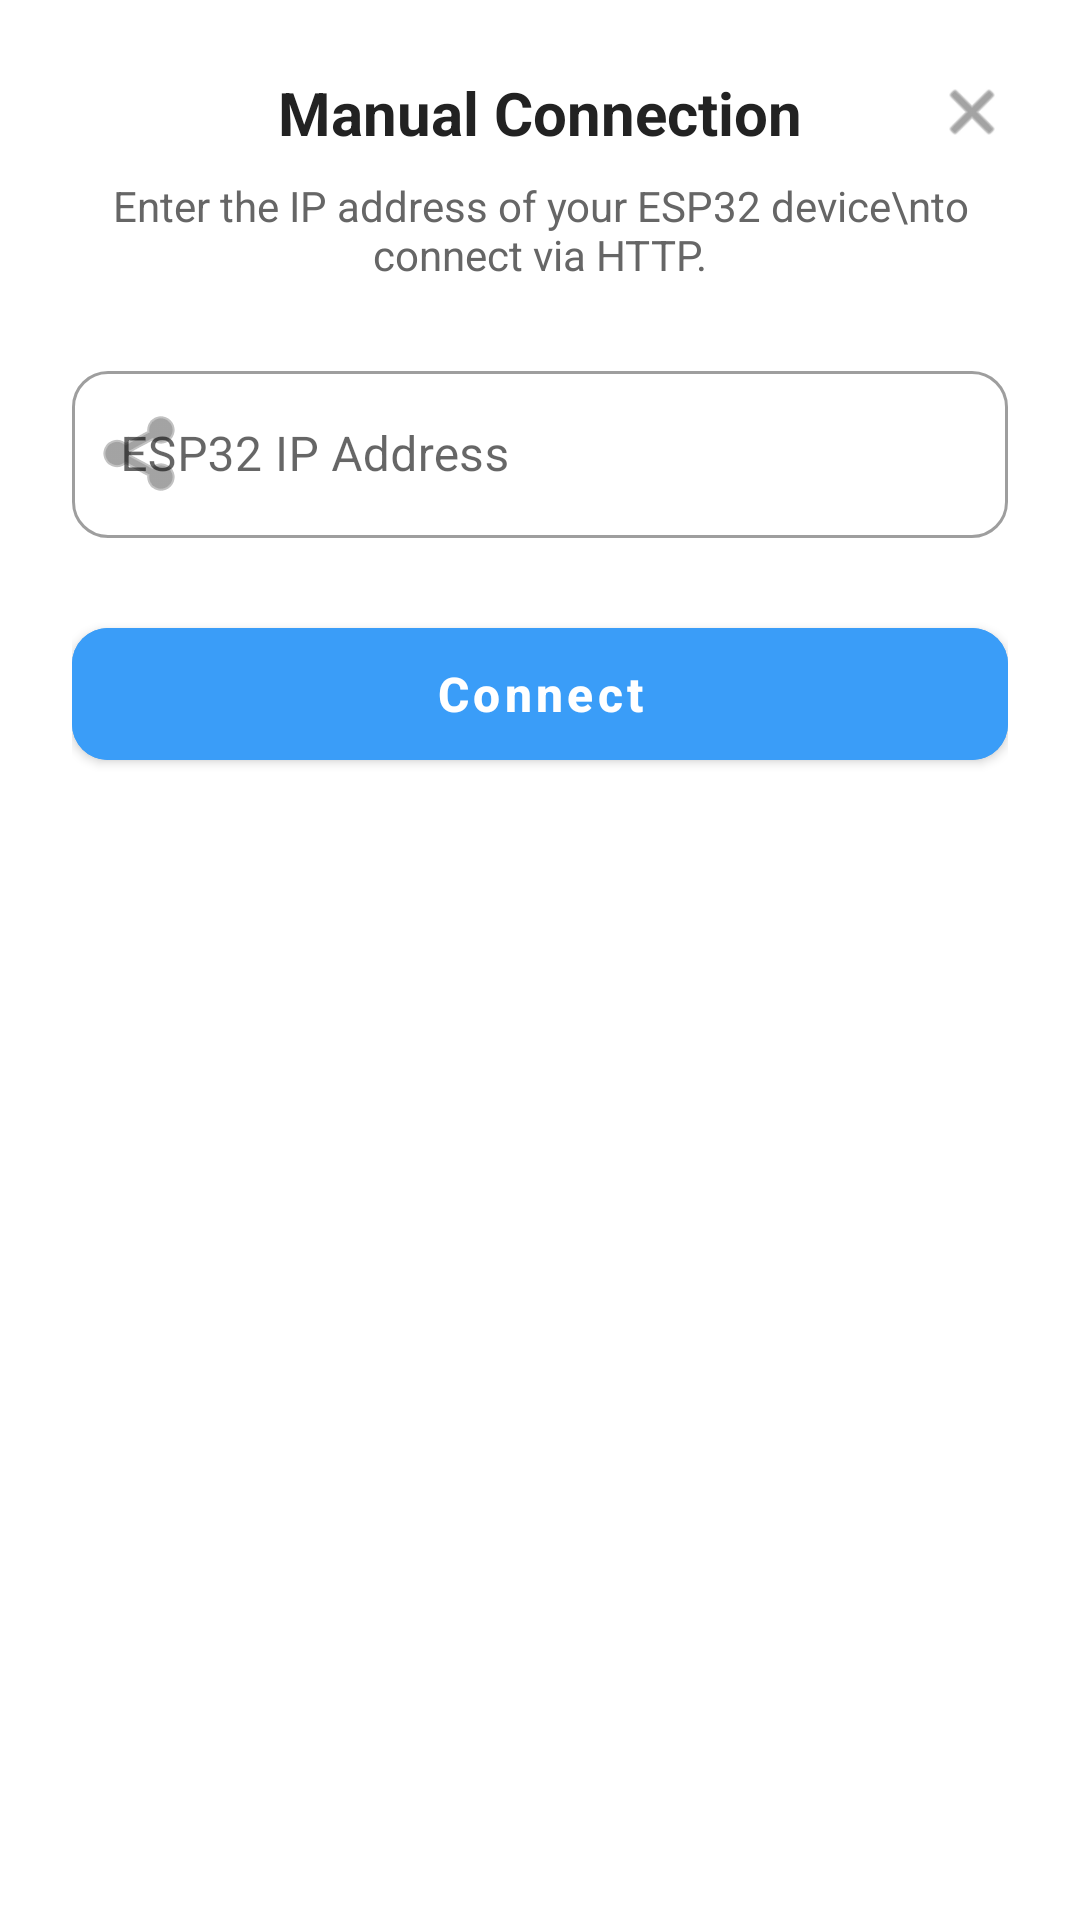

Named icons in this screenshot (1080 x 1920) and their centers, point (x, y):
close clear cancel: point (972, 112)
